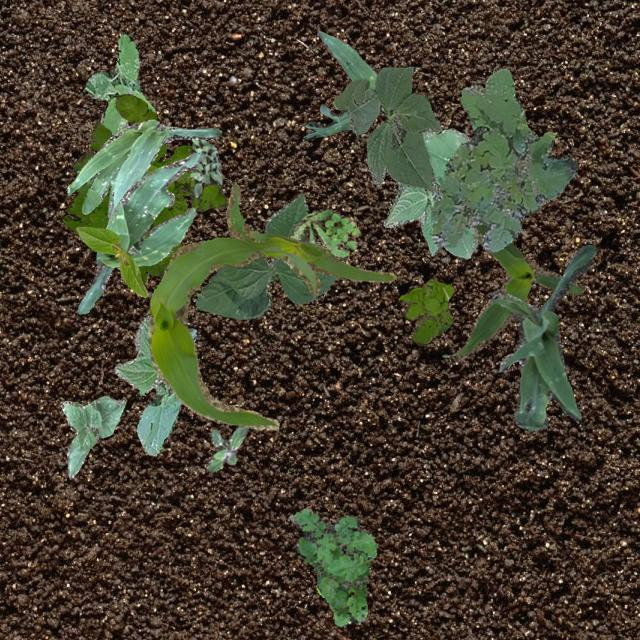crop: (147, 182, 396, 430), (488, 243, 596, 430), (76, 152, 202, 312), (450, 222, 582, 362), (194, 192, 338, 318), (66, 118, 218, 222), (332, 66, 439, 192), (382, 128, 478, 258), (114, 314, 195, 454), (304, 30, 376, 138), (59, 394, 124, 476), (76, 226, 146, 296)
weed: (62, 92, 226, 280), (429, 68, 576, 250), (286, 508, 376, 624), (84, 34, 154, 136), (398, 278, 452, 344), (289, 208, 359, 258), (188, 138, 222, 198), (206, 424, 247, 470)
